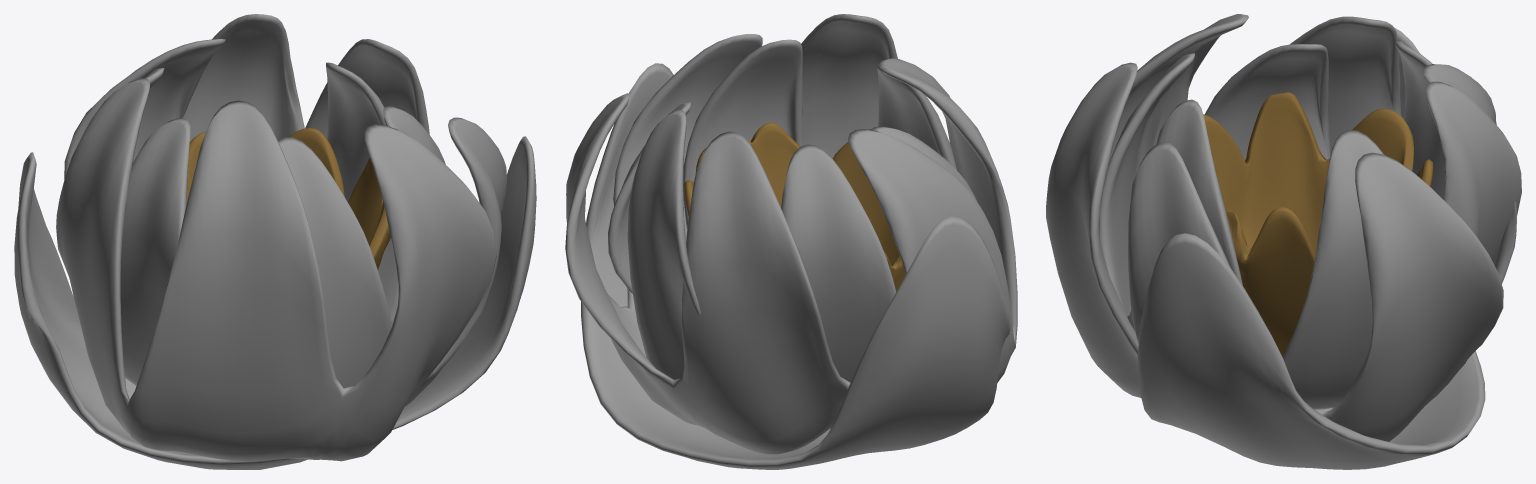
File: LilyFlowe_02_Thin.fbx
The picture shows the model from 3 angles, left to right: view 1: azimuth 30°, elevation 25°; view 2: azimuth 150°, elevation 25°; view 3: azimuth 270°, elevation 25°; orthographic projection. The views are drawn at different scales.
Visible parts, largest first — view 1: LilyFlower_02_Thin; view 2: LilyFlower_02_Thin; view 3: LilyFlower_02_Thin.
Boxes of the visible parts, x1,y1,x2,y2 form: LilyFlower_02_Thin: (14, 14, 536, 469); LilyFlower_02_Thin: (565, 14, 1017, 469); LilyFlower_02_Thin: (1046, 14, 1521, 469).
Size of the model in its own units: 9.85 by 7.86 by 8.69.
